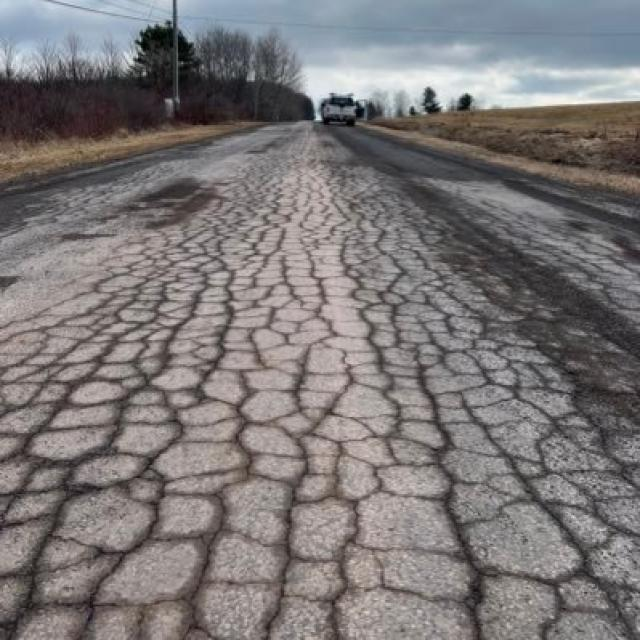Drain Hole: (111, 283, 640, 640)
